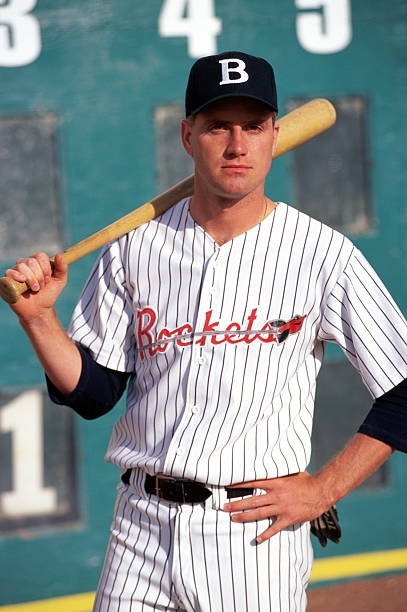bita: (24, 168, 195, 290), (274, 101, 341, 171)
